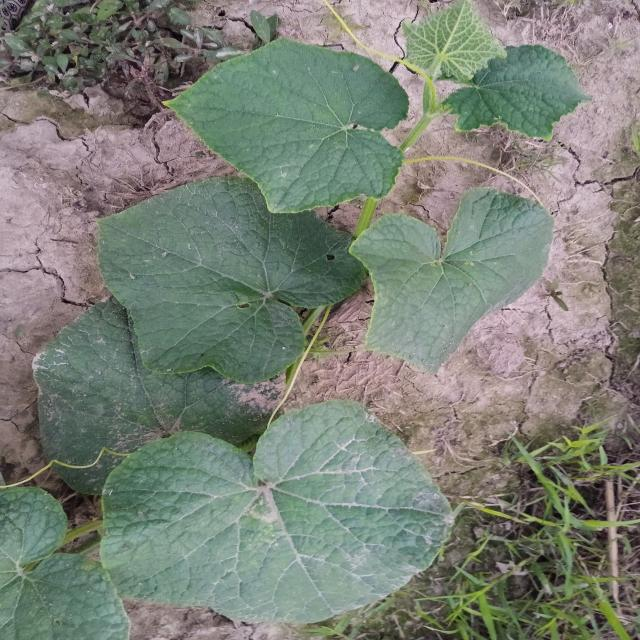cucumber_healthy: (97, 396, 460, 625), (93, 176, 375, 387), (155, 34, 414, 221), (350, 182, 570, 383), (1, 475, 129, 640), (444, 36, 592, 151), (404, 0, 509, 92)
